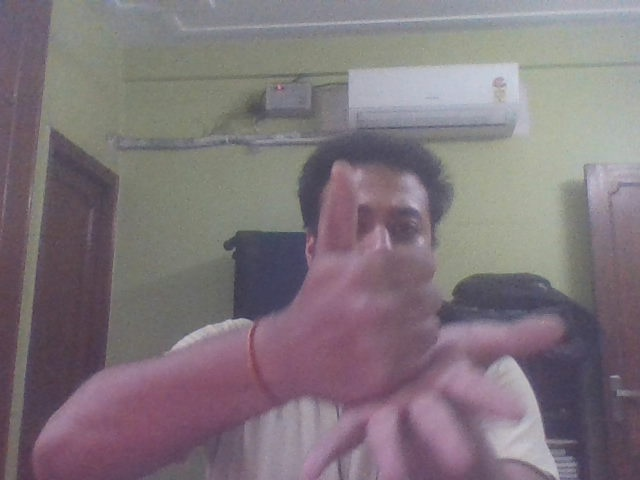Help: (248, 158, 573, 477)
